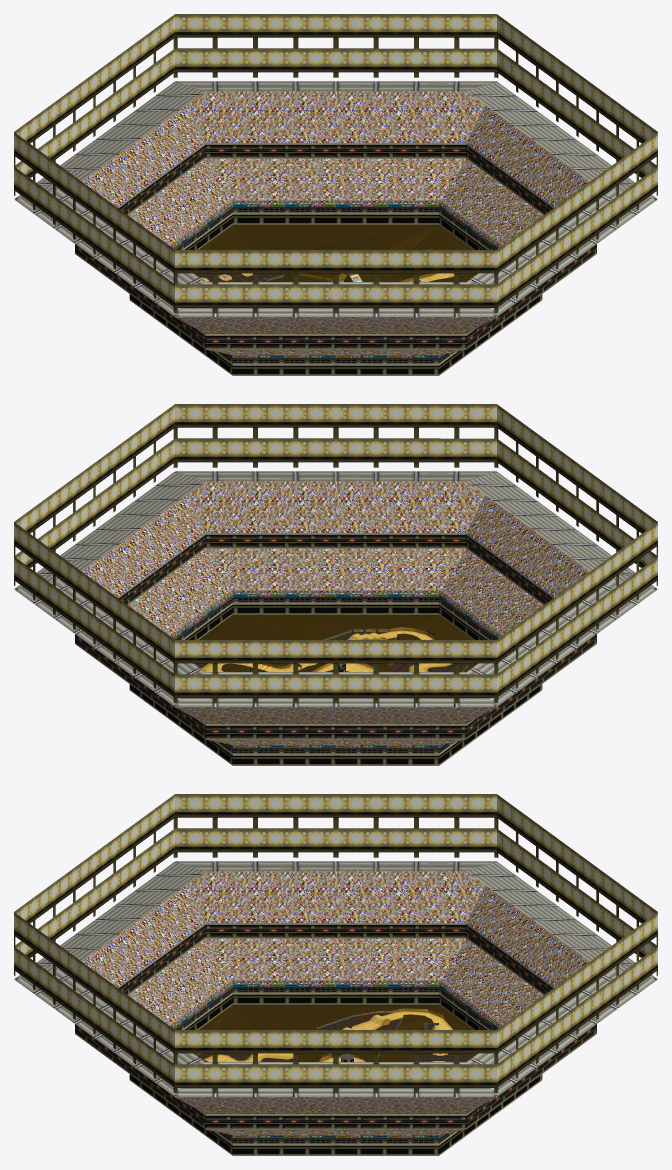
File: Wario Stadium.obj
3 renders of one model, top to bottom at view 1: azimuth 30°, elevation 25°; view 2: azimuth 150°, elevation 25°; view 3: azimuth 270°, elevation 25°, orthographic.
Parts seen in each view (by area): view 1: polygon6, polygon5, polygon3, polygon12, polygon2; view 2: polygon6, polygon5, polygon3, polygon12, polygon13, polygon2, polygon9; view 3: polygon6, polygon5, polygon3, polygon12, polygon9, polygon13, polygon2.
Boxes of the visible parts, x1,y1,x2,y2 form: polygon6: (14, 14, 657, 317); polygon5: (82, 91, 589, 355); polygon3: (75, 143, 596, 375); polygon12: (199, 224, 477, 281); polygon2: (170, 200, 501, 281); polygon6: (14, 404, 657, 707); polygon5: (82, 481, 589, 745); polygon3: (75, 533, 596, 765); polygon12: (199, 614, 477, 671); polygon13: (221, 626, 437, 671); polygon2: (170, 590, 501, 637); polygon9: (194, 631, 467, 671); polygon6: (14, 794, 657, 1097); polygon5: (82, 871, 589, 1135); polygon3: (75, 923, 596, 1155); polygon12: (194, 1004, 477, 1061); polygon9: (197, 1012, 475, 1061); polygon13: (298, 1007, 465, 1061); polygon2: (170, 980, 501, 1027).
Bounding box in the file's own units: 647 × 221 × 747.
14 materials, 14 textured.
